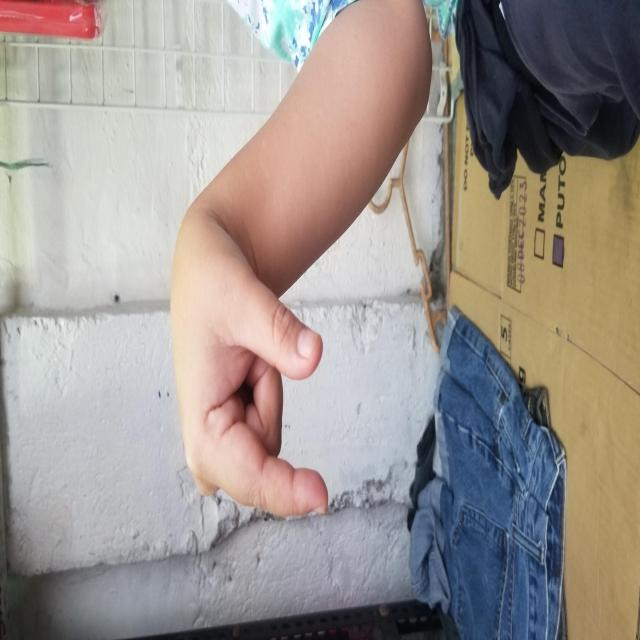Q: (122, 169, 416, 328)
